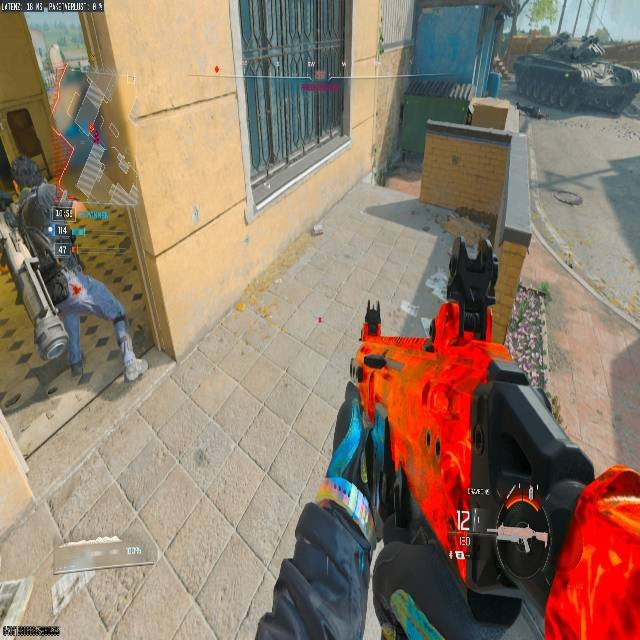player: (0, 158, 148, 417)
